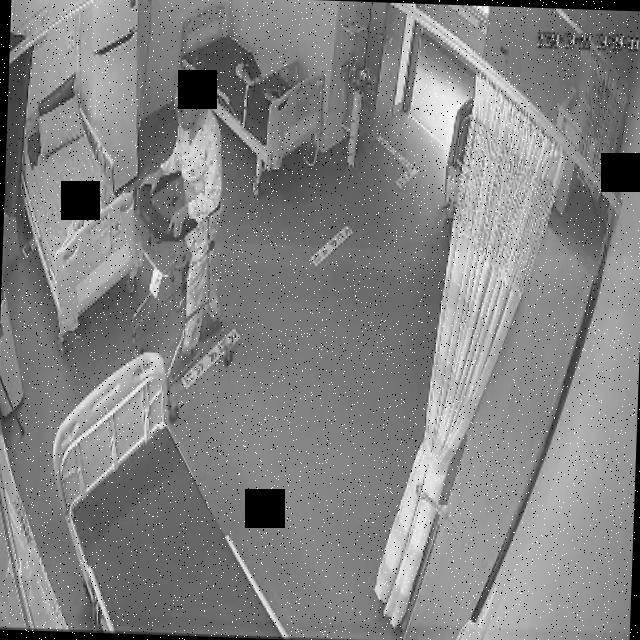bed: (43, 346, 293, 639), (14, 90, 148, 320), (176, 3, 328, 171)
move: (133, 71, 230, 354)
patient: (134, 70, 228, 354)
walker: (134, 169, 217, 367)
